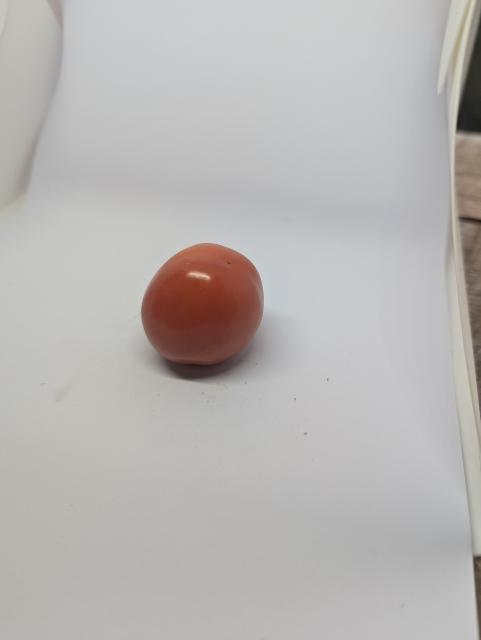red: (120, 228, 286, 380)
